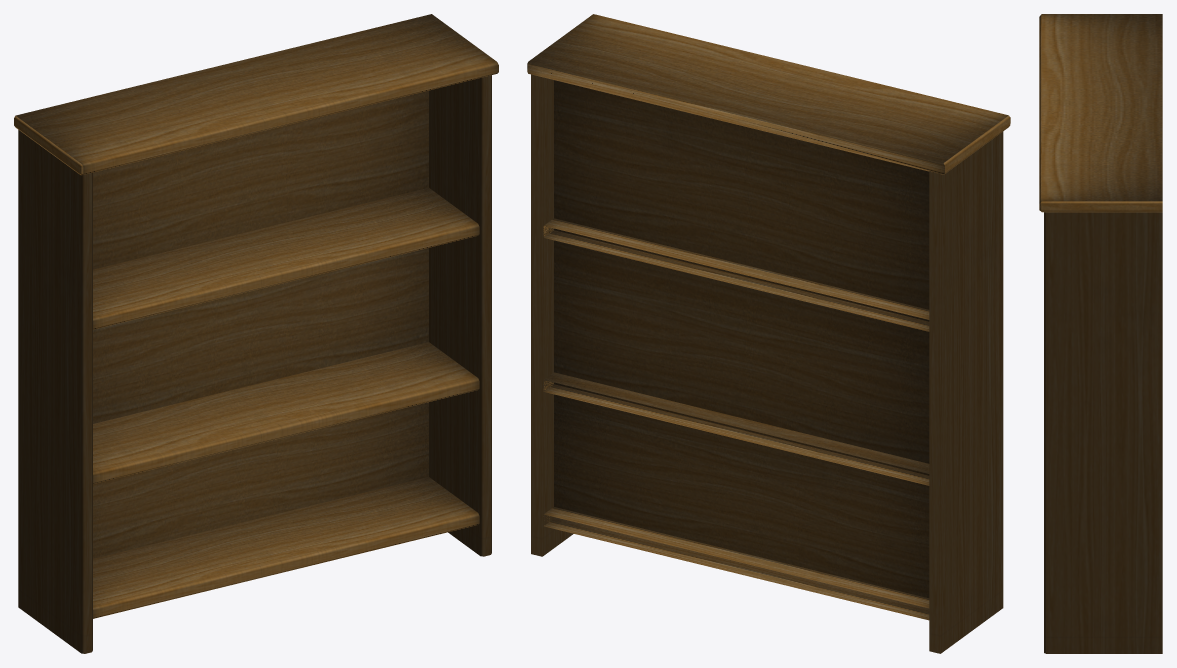
File: bookcase_short.fbx
The picture shows the model from 3 angles, left to right: view 1: azimuth 30°, elevation 25°; view 2: azimuth 150°, elevation 25°; view 3: azimuth 270°, elevation 25°; orthographic projection. The views are drawn at different scales.
Visible parts, largest first — view 1: bookcase_short; view 2: bookcase_short; view 3: bookcase_short.
Boxes of the visible parts, x1=… form: bookcase_short: x1=14, y1=14, x2=498, y2=653; bookcase_short: x1=527, y1=14, x2=1010, y2=653; bookcase_short: x1=1039, y1=14, x2=1162, y2=653.
Size of the model in its own units: 114 by 129 by 31.65.
